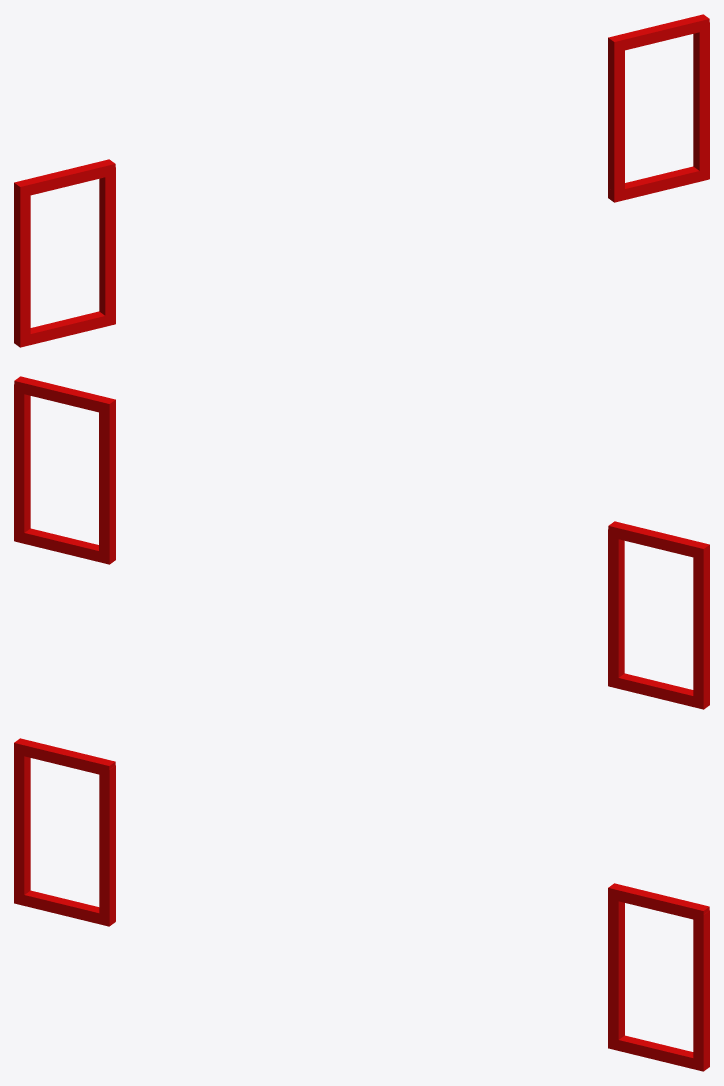
Rendered from store_windows.fbx.
The picture shows the model from 3 angles, top to bottom: view 1: azimuth 30°, elevation 25°; view 2: azimuth 150°, elevation 25°; view 3: azimuth 330°, elevation 25°; orthographic projection.
Visible parts, largest first — view 1: pCube23 (×2), pCube22 (×2), pCube20 (×2), pCube21 (×2); view 2: pCube23 (×2), pCube22 (×2), pCube20 (×2), pCube21 (×2); view 3: pCube22 (×2), pCube23 (×2), pCube20 (×2), pCube21 (×2).
Part boxes in pixels (box(x1,y1,x2,y2)): pCube23 (×2): box(14, 48, 624, 344); pCube22 (×2): box(99, 22, 709, 325); pCube20 (×2): box(14, 14, 709, 197); pCube21 (×2): box(14, 166, 709, 347); pCube23 (×2): box(99, 405, 709, 698); pCube22 (×2): box(14, 384, 624, 686); pCube20 (×2): box(14, 376, 709, 559); pCube21 (×2): box(14, 528, 709, 709); pCube22 (×2): box(99, 765, 709, 1070); pCube23 (×2): box(14, 746, 624, 1047); pCube20 (×2): box(14, 738, 709, 921); pCube21 (×2): box(14, 890, 709, 1071).
Size of the model in its own units: 329 by 73.28 by 5.12.
